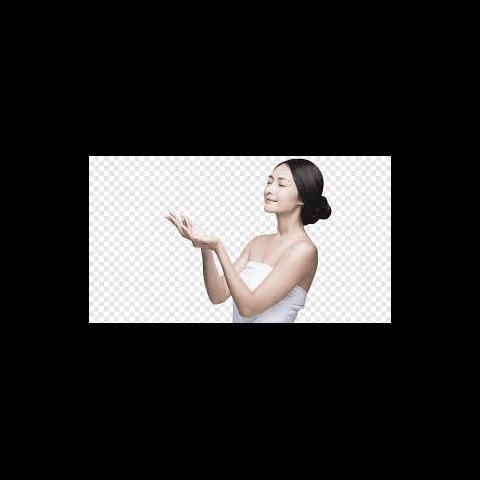closed: (262, 170, 296, 194)
